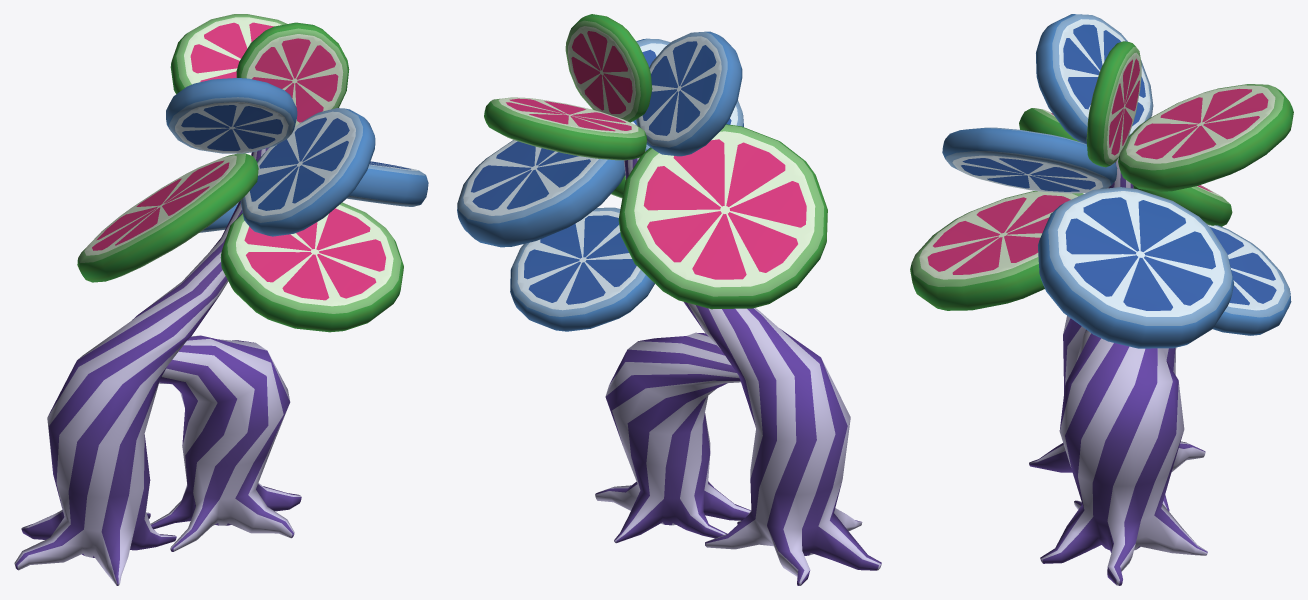
The model's file is cw_tree_15.fbx.
3 views of the same model, side by side, from view 1: azimuth 30°, elevation 25°; view 2: azimuth 150°, elevation 25°; view 3: azimuth 270°, elevation 25° (orthographic). The views are drawn at different scales.
Parts seen in each view (by area): view 1: cw_t_15; view 2: cw_t_15; view 3: cw_t_15.
Boxes of the visible parts, left/top/right/bottom form: cw_t_15: left=14, top=14, right=428, bottom=585; cw_t_15: left=457, top=14, right=881, bottom=585; cw_t_15: left=910, top=14, right=1293, bottom=585.
Bounding box in the file's own units: 176 × 199 × 129.
